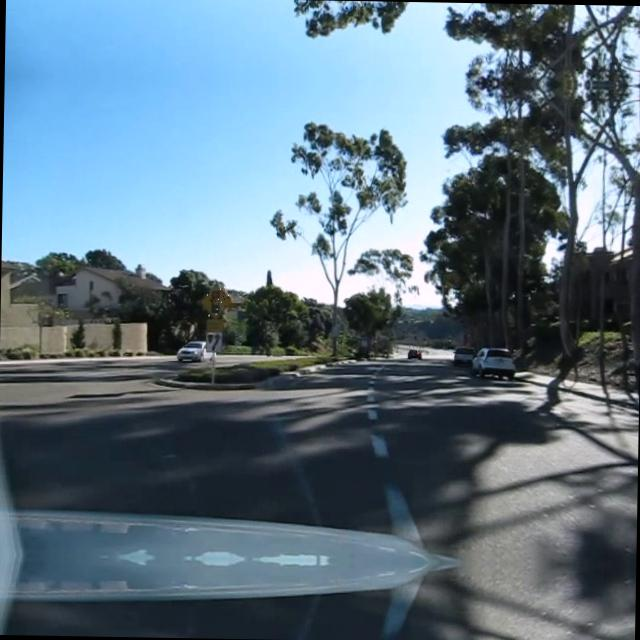signalAhead: (199, 282, 232, 320)
